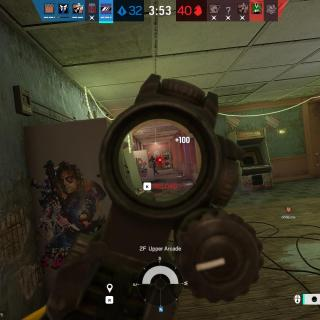Character: (148, 155, 160, 176)
Friend_label: (281, 206, 296, 219)
